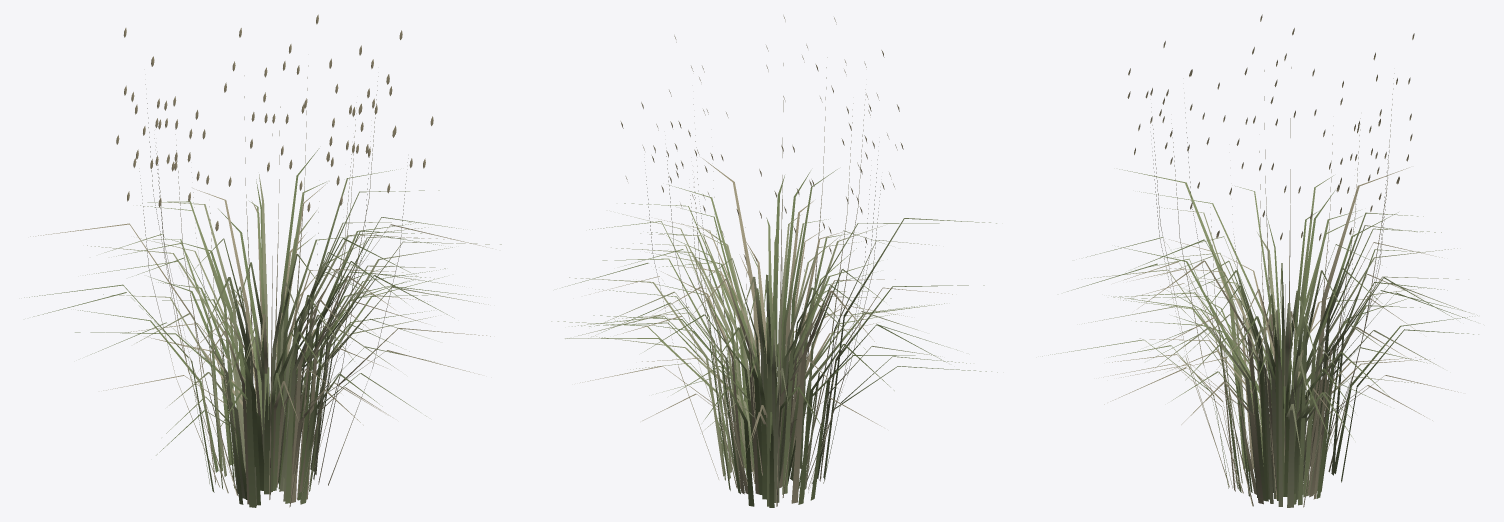
The model's file is deschampsia_lod1.glb.
The picture shows the model from 3 angles, left to right: view 1: azimuth 30°, elevation 25°; view 2: azimuth 150°, elevation 25°; view 3: azimuth 270°, elevation 25°; orthographic projection. The views are drawn at different scales.
Visible parts, largest first — view 1: B_Deschampsia_MediumOriginalTussock; view 2: B_Deschampsia_MediumOriginalTussock; view 3: B_Deschampsia_MediumOriginalTussock.
Boxes of the visible parts, <box> form: B_Deschampsia_MediumOriginalTussock: <box>24,14,501,507</box>; B_Deschampsia_MediumOriginalTussock: <box>551,15,997,507</box>; B_Deschampsia_MediumOriginalTussock: <box>1042,14,1478,507</box>.
Bounding box in the file's own units: 1.05 × 0.999 × 0.9694.
